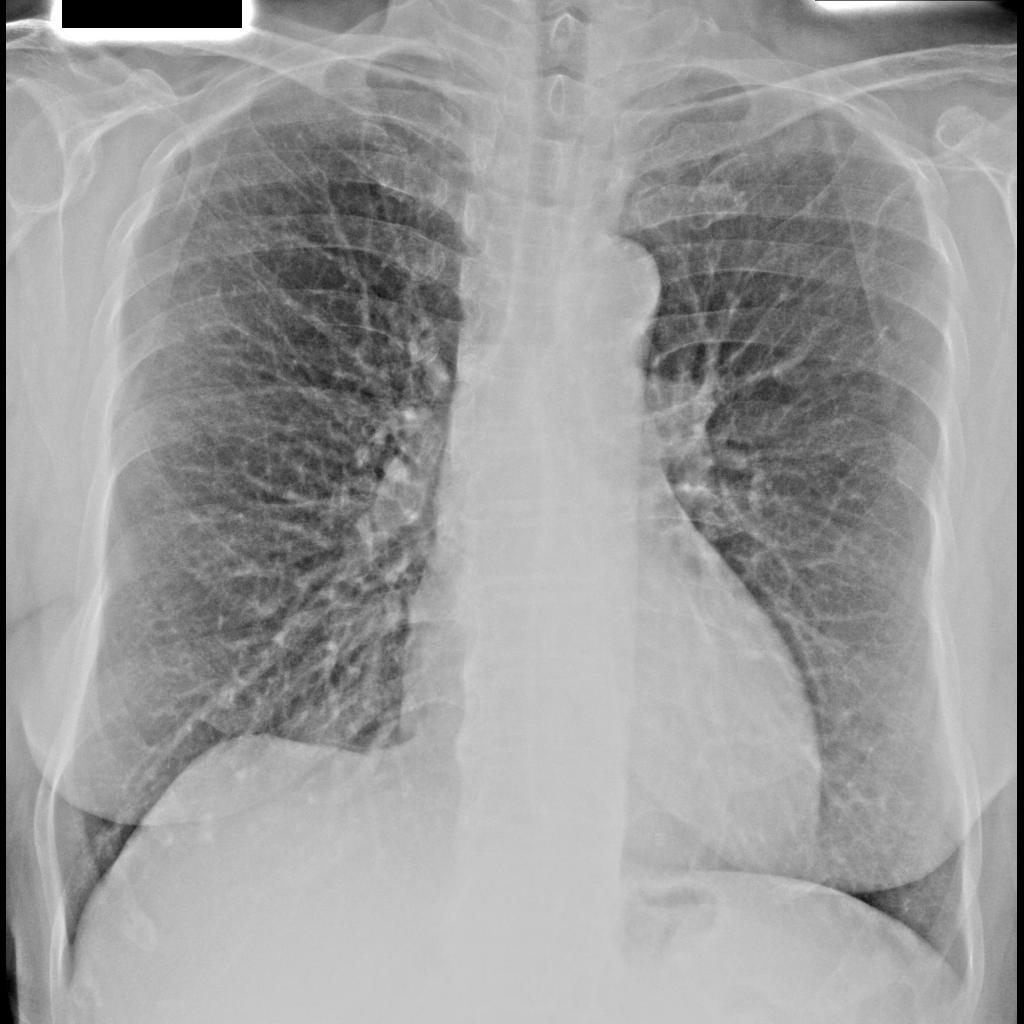Nodule: (772, 227, 814, 269)
